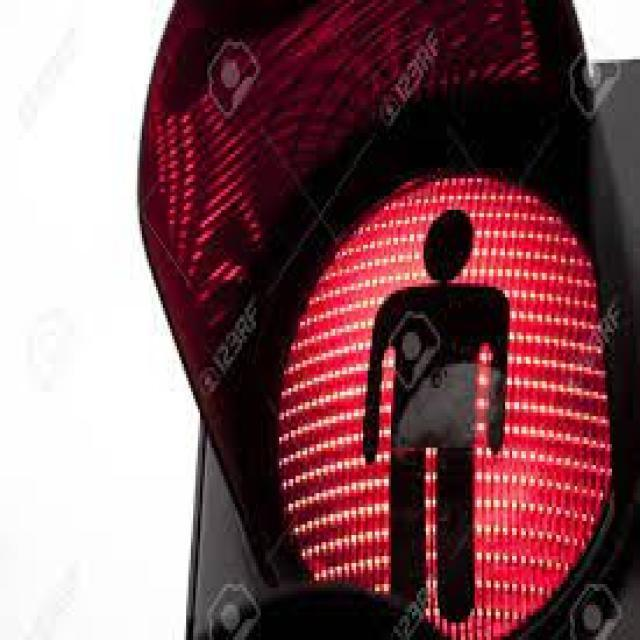red_light: (322, 211, 550, 621)
